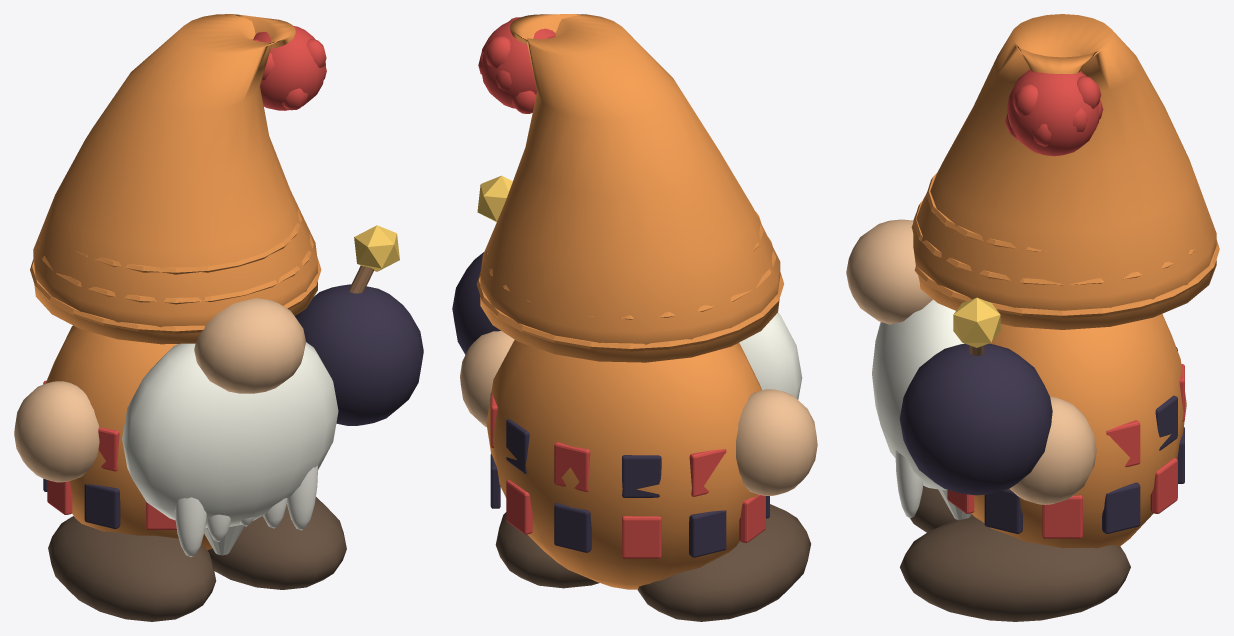
File: gnome-boom.glb
3 views of the same model, side by side, from view 1: azimuth 30°, elevation 25°; view 2: azimuth 150°, elevation 25°; view 3: azimuth 270°, elevation 25° (orthographic). The views are drawn at different scales.
Visible parts, largest first — view 1: gnome-boom; view 2: gnome-boom; view 3: gnome-boom.
Part boxes in pixels (bbox=[...]): gnome-boom: bbox=[14, 14, 423, 621]; gnome-boom: bbox=[452, 14, 817, 621]; gnome-boom: bbox=[846, 14, 1219, 621].
Size of the model in its own units: 1.06 by 1.46 by 0.872.
